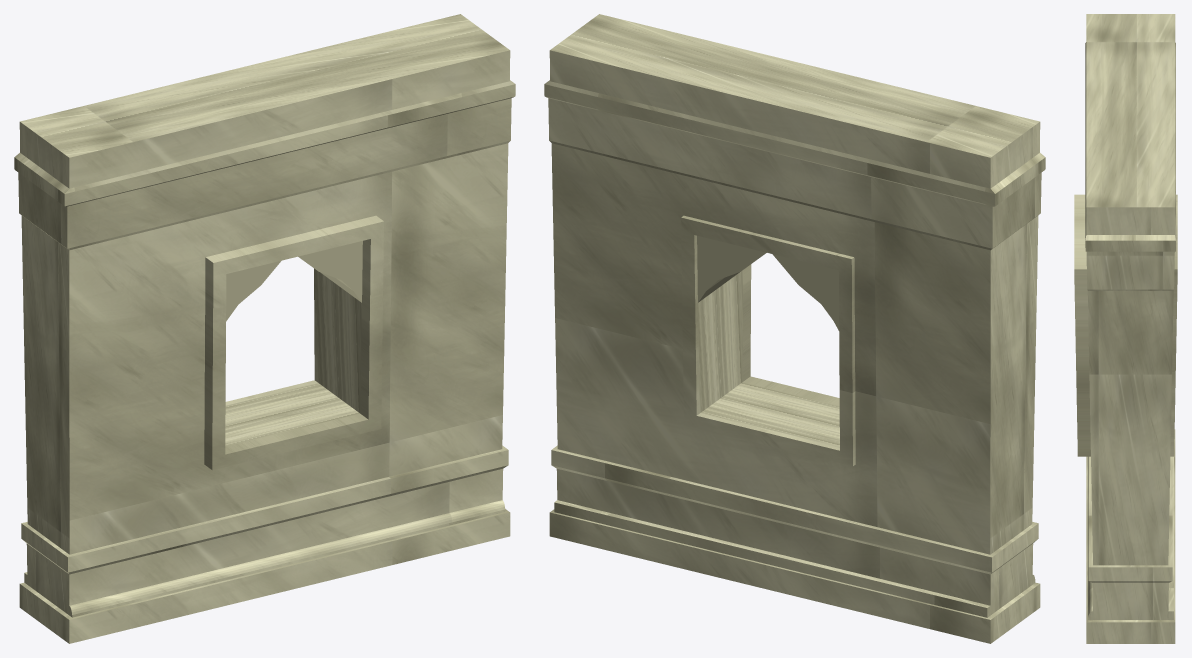
File: giant map 2.fbx
3 views of the same model, side by side, from view 1: azimuth 30°, elevation 25°; view 2: azimuth 150°, elevation 25°; view 3: azimuth 270°, elevation 25° (orthographic). The views are drawn at different scales.
Visible parts, largest first — view 1: Cube.039; view 2: Cube.039; view 3: Cube.039.
Boxes of the visible parts, left/top/right/bottom form: Cube.039: left=14, top=14, right=515, bottom=643; Cube.039: left=544, top=14, right=1045, bottom=643; Cube.039: left=1074, top=14, right=1177, bottom=643.
Bounding box in the file's own units: 391 × 86.69 × 403.
